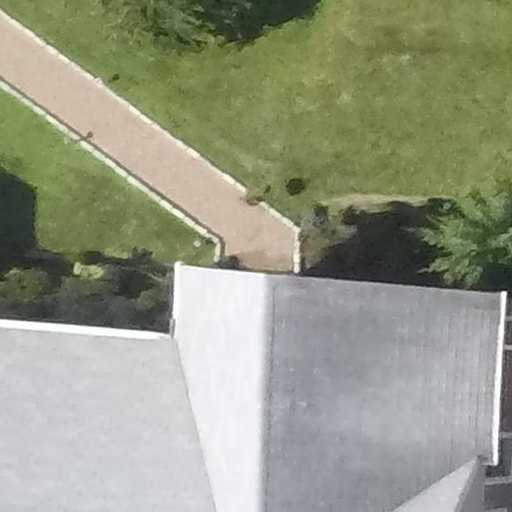container: (285, 172, 308, 196)
